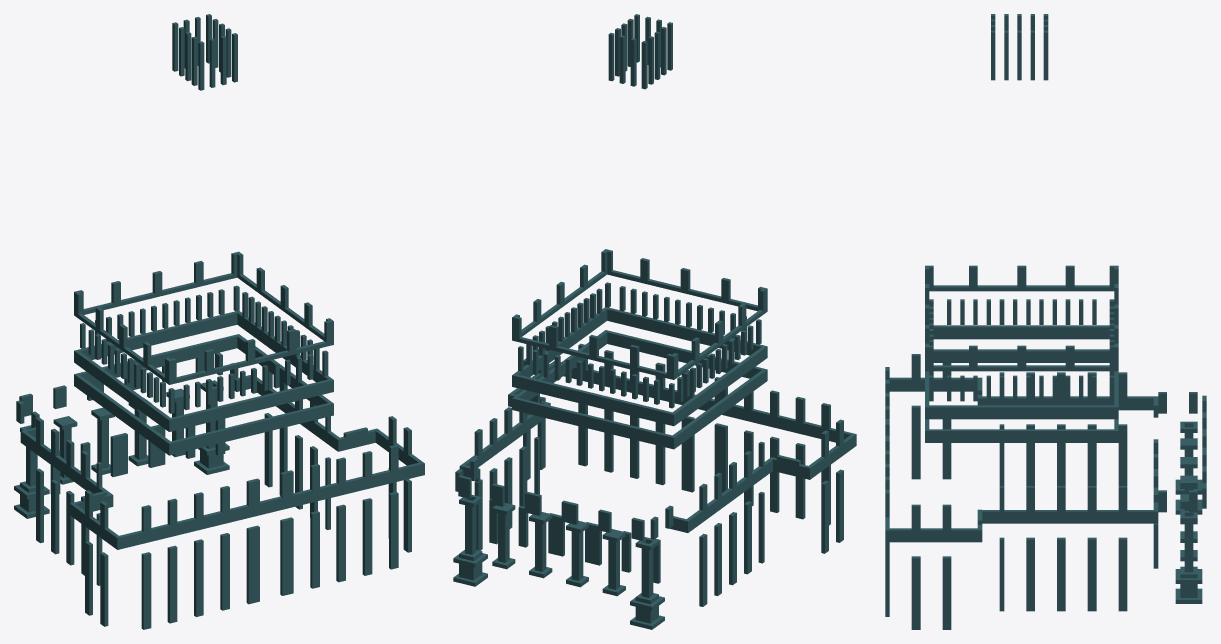
File: torinoCyberPunk-16.obj
3 views of the same model, side by side, from view 1: azimuth 30°, elevation 25°; view 2: azimuth 150°, elevation 25°; view 3: azimuth 270°, elevation 25° (orthographic). The views are drawn at different scales.
Size of the model in its own units: 8.2 by 13.3 by 7.3.
Materials: 1 (1 with a texture image).
